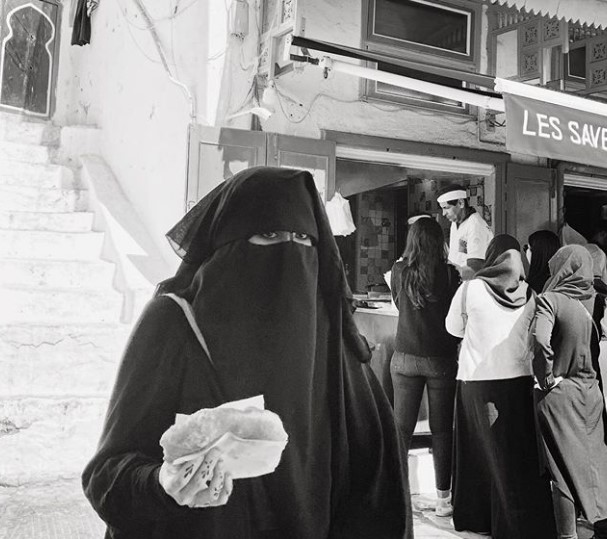face_no_mask: (435, 183, 470, 223)
